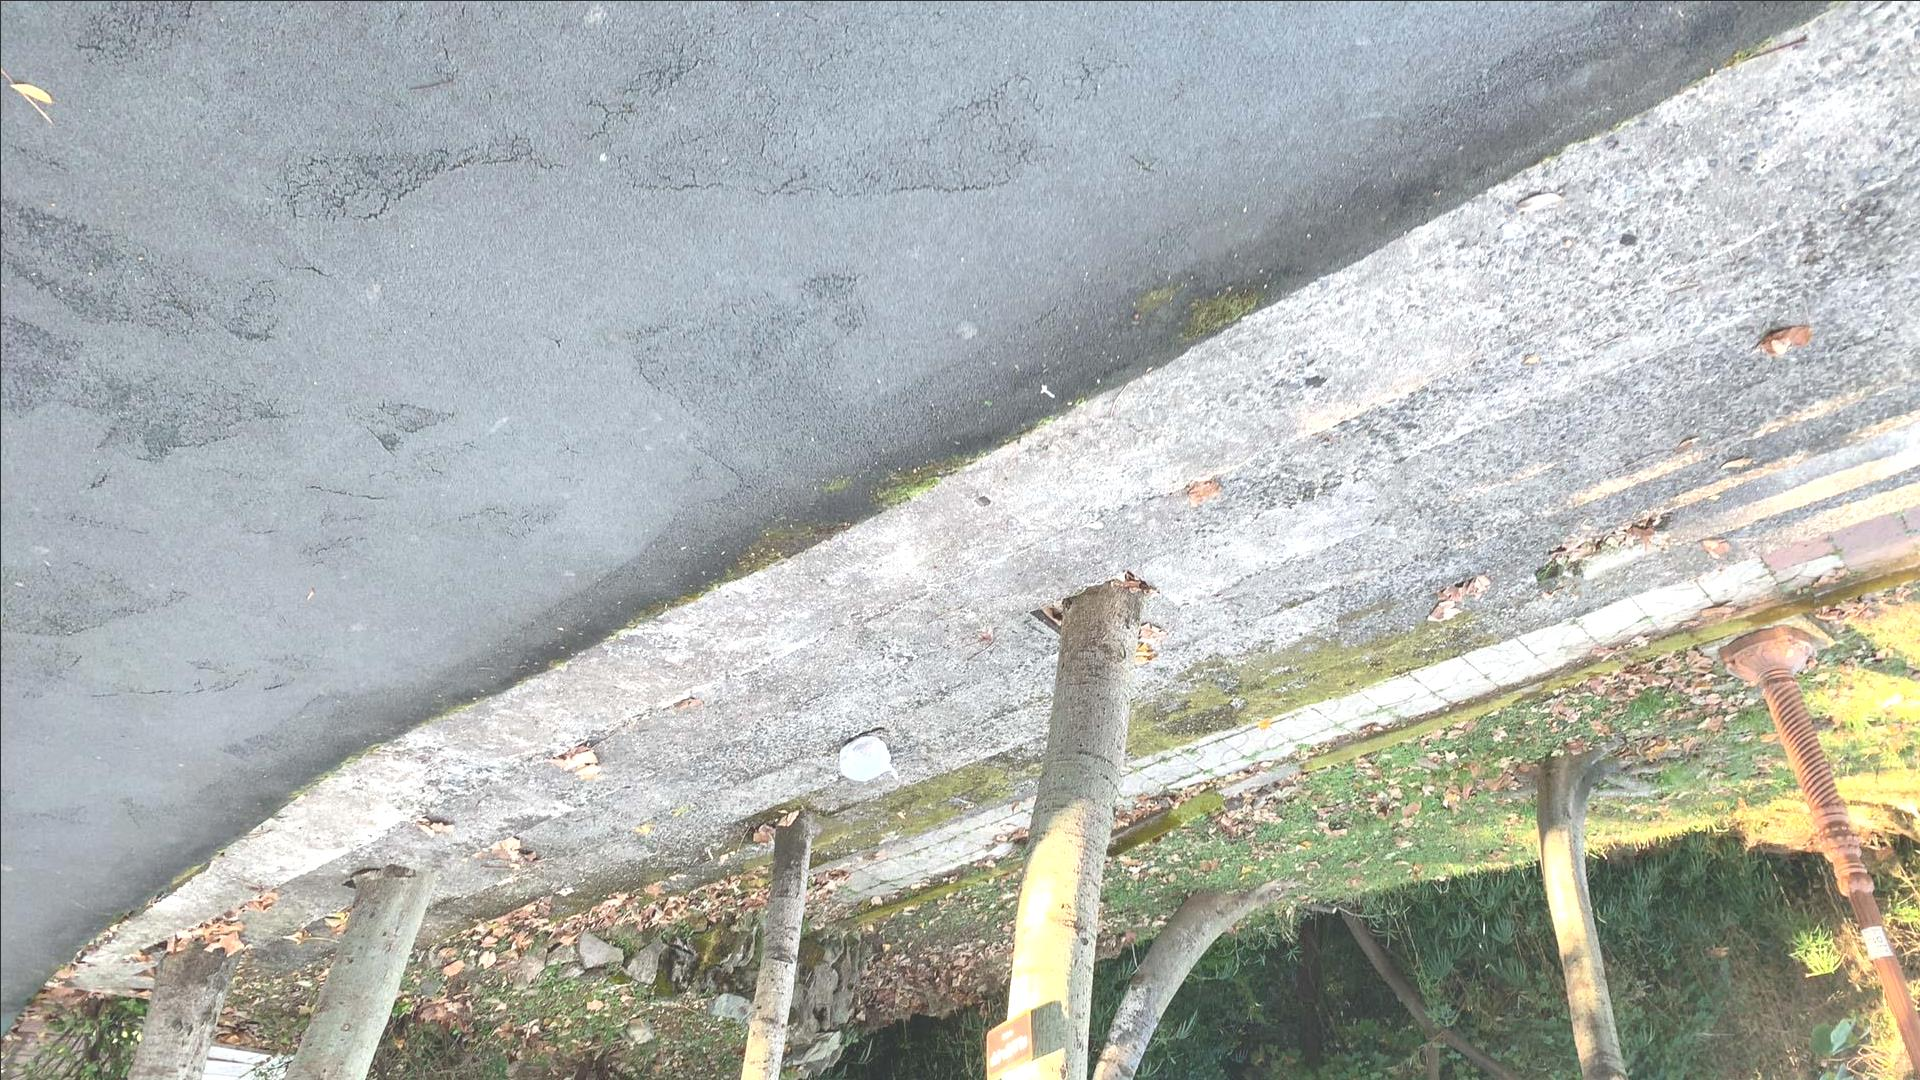white_bag: (832, 731, 913, 790)
